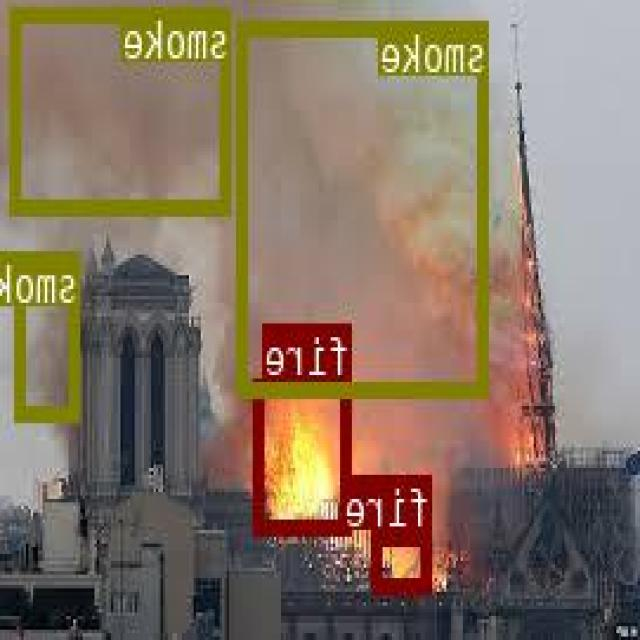fire: (257, 375, 353, 533), (375, 528, 434, 588)
smoke: (238, 18, 490, 393), (13, 3, 232, 212), (19, 249, 82, 418)
